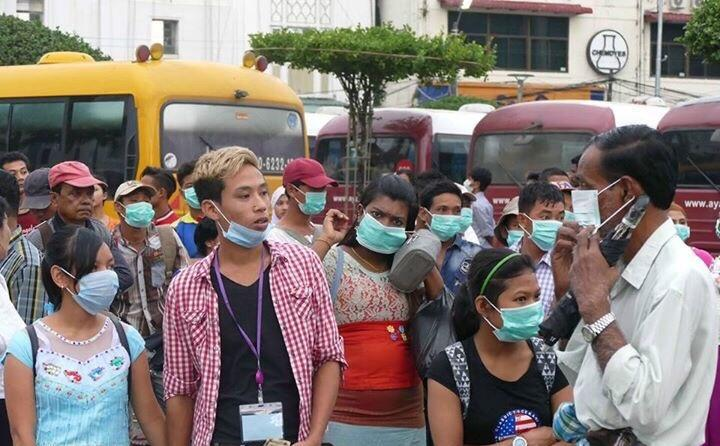NONE: (60, 187, 95, 222), (3, 162, 32, 193), (276, 197, 294, 218)
OK: (564, 163, 646, 245), (486, 281, 551, 346), (61, 255, 124, 318), (355, 202, 406, 253), (525, 204, 573, 252), (425, 200, 467, 242), (119, 192, 158, 231), (296, 181, 332, 217), (184, 176, 212, 211), (507, 222, 537, 252), (664, 214, 690, 244), (464, 176, 482, 194)
WRONG: (217, 178, 273, 243)
